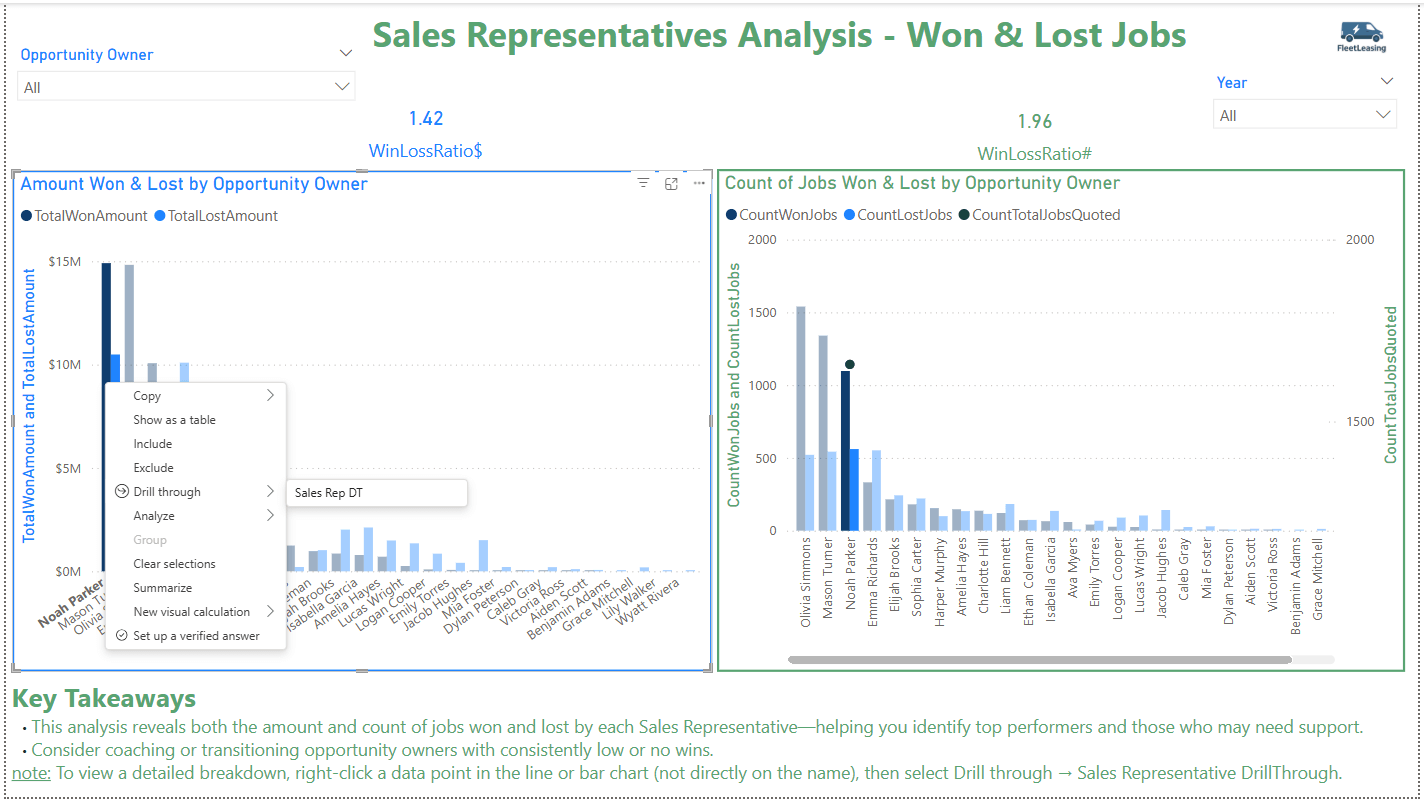

What the dashboard file says about the page in this screenshot:
{"tool":"powerbi","page":{"name":"Sales Reps","canvas":[1280,720],"ordinal":2},"visuals":[{"type":"lineClusteredColumnComboChart","title":"Chart Count of Jobs Won & Lost by Opportunity Owner ","fields":{"Category":["WonLostPipeline.Opportunity Owner"],"Y":["_Measure.CountWonJobs","_Measure.CountLostJobs"],"Y2":["_Measure.CountTotalJobsQuoted"]},"box":[649.3,252.1,620.3,344.6],"z":0},{"type":"clusteredColumnChart","title":"Chart Amount Won & Lost by Opportunity Owner","fields":{"Category":["WonLostPipeline.Opportunity Owner"],"Y":["_Measures.TotalWonAmount","_Measures.TotalLostAmount"]},"box":[5.4,252.1,625.7,343.7],"z":1000},{"type":"slicer","fields":{"Values":["DimDate.Date.Variation.Date Hierarchy.Year"]},"box":[1026.5,7.3,138.7,58.9],"z":2000},{"type":"slicer","fields":{"Values":["WonLostPipeline.Opportunity Owner"]},"box":[0,1.8,327.4,64.4],"z":3000},{"type":"textbox","box":[366.3,0,529.6,54.4],"z":4000},{"type":"textbox","box":[0,606.6,1280.4,113.4],"z":5000},{"type":"image","box":[1177.9,0.9,102.5,65.3],"z":6000},{"type":"card","fields":{"Values":["_Measures.WinLossRatio_WithIcon"]},"box":[486,149.6,120.6,65.3],"z":7000},{"type":"card","fields":{"Values":["_Measure.TotalLostAmount"]},"box":[184.1,149.7,109.7,65.3],"z":8000},{"type":"card","fields":{"Values":["_Measure.TotalWonAmount"]},"box":[17.2,149.7,109.7,65.3],"z":9000},{"type":"card","fields":{"Values":["_Measure.Total Amount"]},"box":[336.4,149.6,109.7,65.3],"z":10000},{"type":"card","fields":{"Values":["_Measure.CountTotalJobsQuoted"]},"box":[948.5,145.2,107.9,64.4],"z":11000},{"type":"card","fields":{"Values":["_Measures.WinLossRatio_WithIcon#"]},"box":[1112.6,145.2,117,65.3],"z":12000},{"type":"card","fields":{"Values":["_Measure.CountLostJobs"]},"box":[809.8,148.8,86.1,59.8],"z":13000},{"type":"card","fields":{"Values":["_Measure.CountWonJobs"]},"box":[668.3,148.8,94.3,59.8],"z":14000},{"type":"shape","box":[5.4,131.5,1265.9,13.6],"z":15000},{"type":"pageNavigator","box":[48.1,78,1202.4,49.9],"z":16000},{"type":"shape","box":[635.7,137.8,10.9,468.8],"z":17000},{"type":"shape","box":[5.4,600.3,1265.9,12.7],"z":18000},{"type":"bookmarkNavigator","box":[5.7,229.3,309.2,22.8],"z":20000},{"type":"bookmarkNavigator","title":"Count Bookmark navigator","box":[650.3,228.2,309.2,22.8],"z":24000}]}

Visuals, with their boxes in screenshot pixels (x1, y1, x2, y2), scaled from the page's 1280x720 canvas onto the 1424x802 screenshot:
"Chart Count of Jobs Won & Lost by Opportunity Owner " lineClusteredColumnComboChart: bbox(722, 281, 1412, 665)
"Chart Amount Won & Lost by Opportunity Owner" clusteredColumnChart: bbox(6, 281, 702, 664)
slicer - DimDate.Date.Variation.Date Hierarchy.Year: bbox(1142, 8, 1296, 74)
slicer - WonLostPipeline.Opportunity Owner: bbox(0, 2, 364, 74)
textbox: bbox(408, 0, 997, 61)
textbox: bbox(0, 676, 1423, 801)
image: bbox(1310, 1, 1423, 74)
card - _Measures.WinLossRatio_WithIcon: bbox(541, 167, 675, 239)
card - _Measure.TotalLostAmount: bbox(205, 167, 327, 239)
card - _Measure.TotalWonAmount: bbox(19, 167, 141, 239)
card - _Measure.Total Amount: bbox(374, 167, 496, 239)
card - _Measure.CountTotalJobsQuoted: bbox(1055, 162, 1175, 233)
card - _Measures.WinLossRatio_WithIcon#: bbox(1238, 162, 1368, 234)
card - _Measure.CountLostJobs: bbox(901, 166, 997, 232)
card - _Measure.CountWonJobs: bbox(743, 166, 848, 232)
shape: bbox(6, 146, 1414, 162)
pageNavigator: bbox(54, 87, 1391, 142)
shape: bbox(707, 153, 719, 676)
shape: bbox(6, 669, 1414, 683)
bookmarkNavigator: bbox(6, 255, 350, 281)
"Count Bookmark navigator" bookmarkNavigator: bbox(723, 254, 1067, 280)
